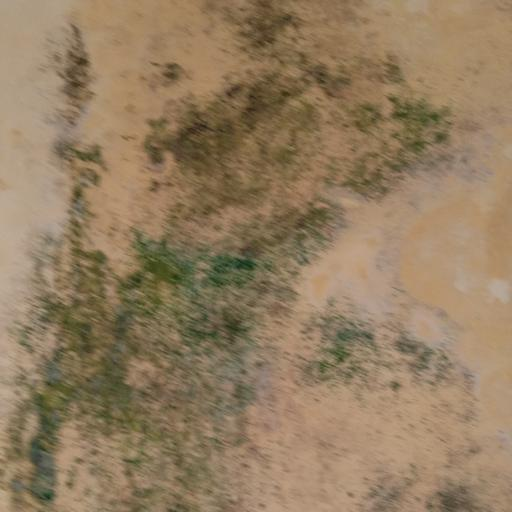algae: (15, 22, 451, 512)
